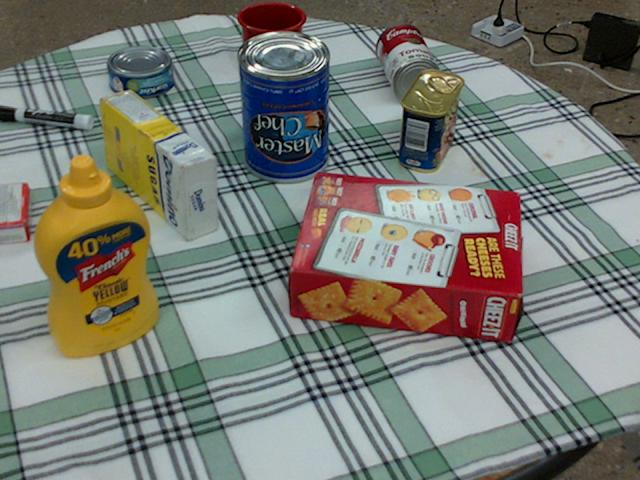cracker_box: (291, 171, 522, 341)
gelatin_box: (0, 183, 31, 243)
large_marker: (0, 105, 92, 129)
master_chef_can: (236, 31, 328, 181)
mug: (238, 1, 307, 82)
mustard_bottle: (33, 154, 157, 354)
potted_meat_can: (397, 70, 461, 172)
sugar_box: (99, 90, 217, 240)
tomato_soup_can: (376, 23, 439, 102)
tuna_fish_can: (107, 45, 173, 97)
